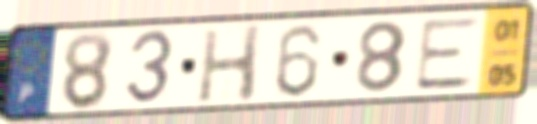3: (120, 26, 176, 110)
6: (272, 20, 324, 102)
8: (59, 28, 116, 114), (352, 18, 409, 95)
E: (411, 14, 485, 94)
H: (194, 21, 266, 105)
